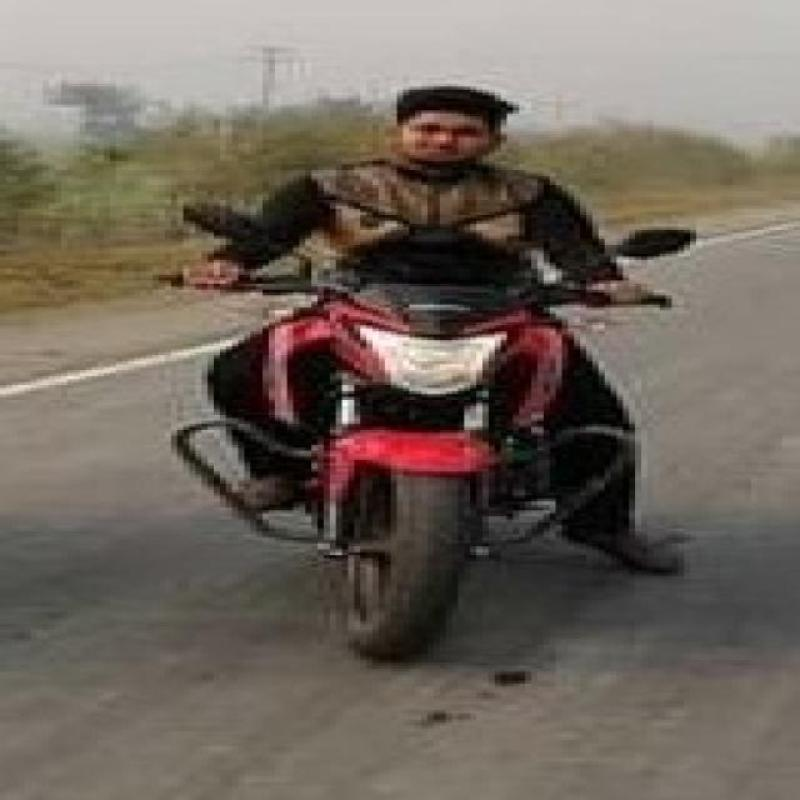nohelmet: (382, 75, 532, 174)
